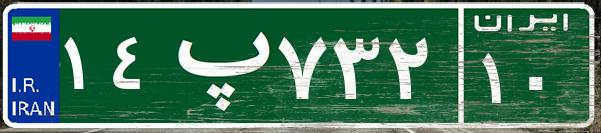0: (525, 38, 570, 115)
1: (57, 26, 110, 107), (475, 38, 525, 113)
2: (385, 28, 445, 110)
3: (330, 28, 385, 110)
4: (110, 28, 158, 105)
7: (273, 28, 330, 110)
پ: (158, 15, 273, 115)
